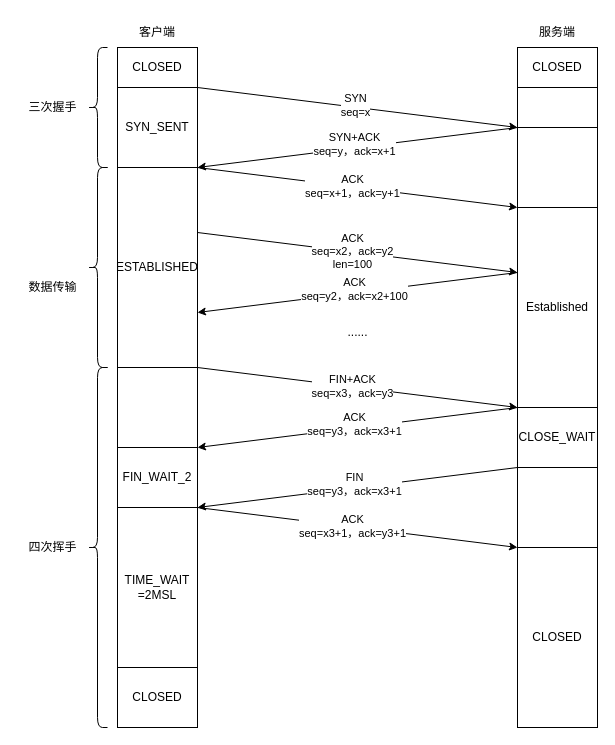
The diagram is 615 pixels wide and 745 high, and some of its shapes have lost their labels. Here are the shapes that lost their labels. From the top down, the centre of each, then its label:
At (x=557, y=107): "LISTEN".
At (x=557, y=167): "SYN_RCVD".
At (x=157, y=407): "FIN_WAIT_1".
At (x=557, y=507): "LAST_ACK".
